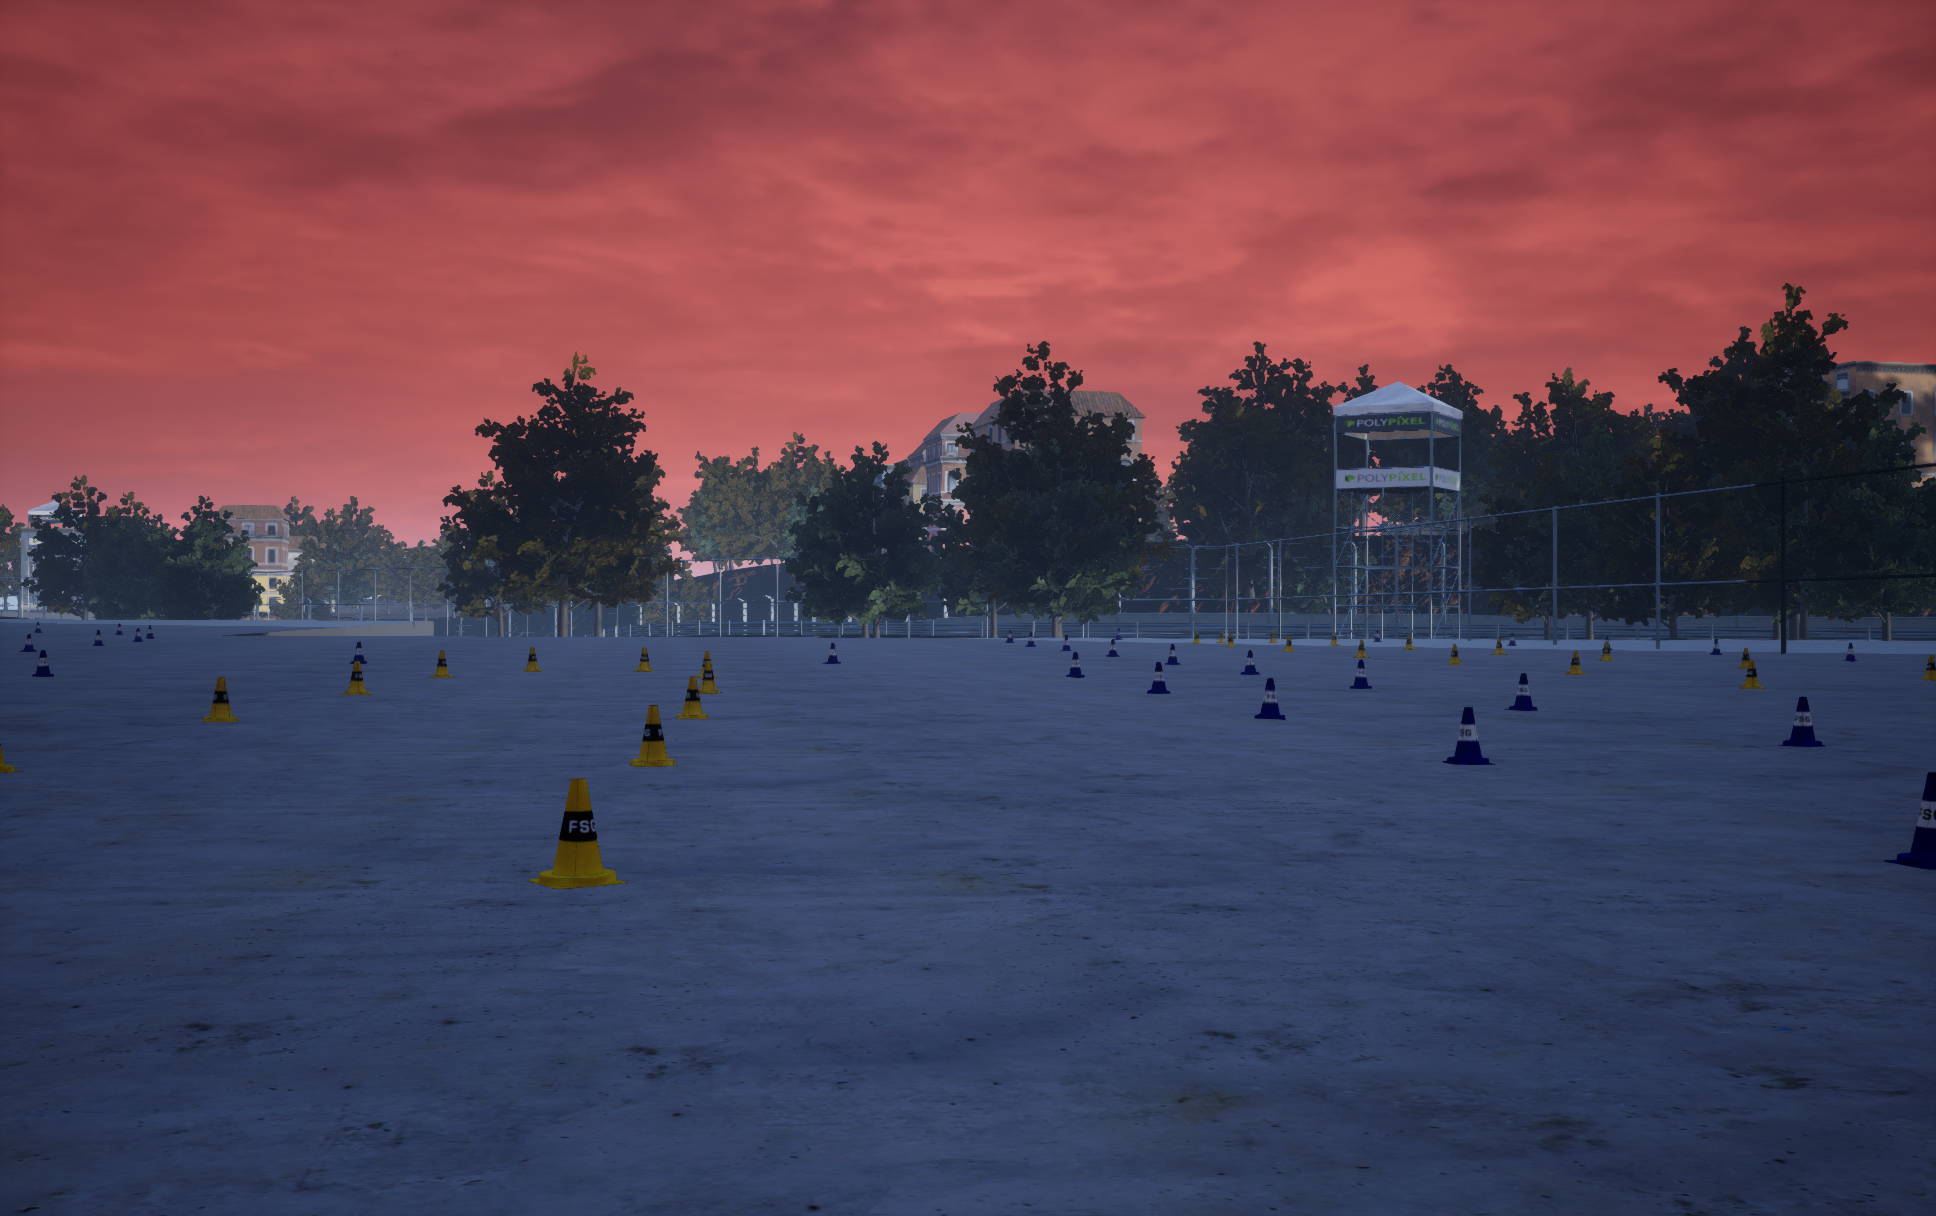blue: (527, 778, 628, 888), (629, 705, 677, 766), (202, 677, 238, 721), (675, 677, 707, 719), (339, 661, 371, 693), (698, 660, 721, 693), (1738, 660, 1765, 688), (429, 650, 454, 677), (0, 744, 22, 772), (696, 651, 717, 677), (1563, 651, 1584, 674), (633, 647, 653, 671), (523, 647, 541, 671), (1921, 656, 1935, 679), (1447, 644, 1461, 664), (1598, 642, 1612, 660), (1737, 649, 1750, 668)
yellow: (1884, 772, 1935, 869), (1441, 707, 1495, 764), (1778, 696, 1824, 747), (1254, 678, 1285, 719), (1505, 672, 1537, 710), (1147, 663, 1170, 693), (1350, 658, 1371, 688), (32, 650, 53, 677), (1240, 650, 1259, 674), (1066, 651, 1084, 677), (822, 643, 841, 663), (349, 642, 366, 663), (1166, 644, 1180, 664), (1107, 639, 1119, 656)
